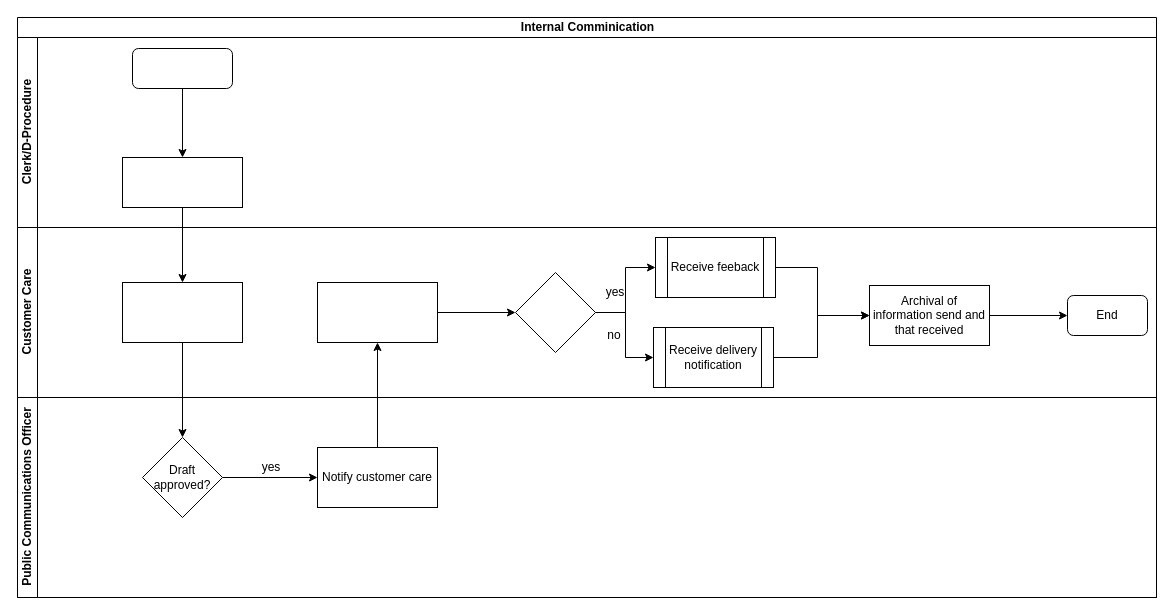
The diagram is 1174 pixels wide and 615 high, and some of its shapes have lost their labels. The shapes that lost their labels are listed below. From the top down, each one's centre as x and y in pixels, then its label:
At point (182, 68): "Start".
At point (182, 182): "Receipt of notification for a communication to be made".
At point (182, 312): "Prepare draft communication".
At point (377, 312): "Dispatch information".
At point (555, 312): "Any feedback?".
